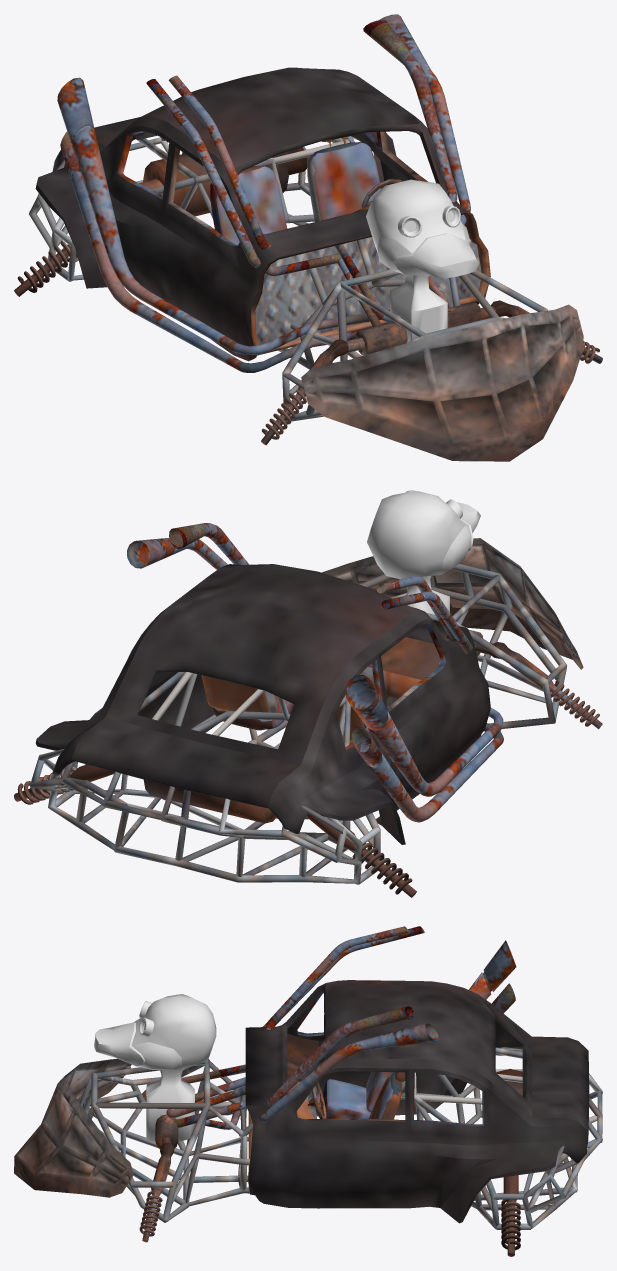
File: Coche_F1_Carroceria.fbx
3 renders of one model, top to bottom at view 1: azimuth 30°, elevation 25°; view 2: azimuth 150°, elevation 25°; view 3: azimuth 270°, elevation 25°, orthographic. The views are drawn at different scales.
Parts seen in each view (by area): view 1: Plane.002, Motor2; view 2: Plane.002, Motor2; view 3: Plane.002, Motor2.
Boxes of the visible parts, box(x1,y1,x2,y2) form: Plane.002: box(14, 14, 602, 461); Motor2: box(366, 179, 478, 342); Plane.002: box(14, 523, 602, 897); Motor2: box(367, 490, 480, 614); Plane.002: box(14, 926, 602, 1256); Motor2: box(94, 994, 216, 1141).
Size of the model in its own units: 736 by 453 by 1110.
